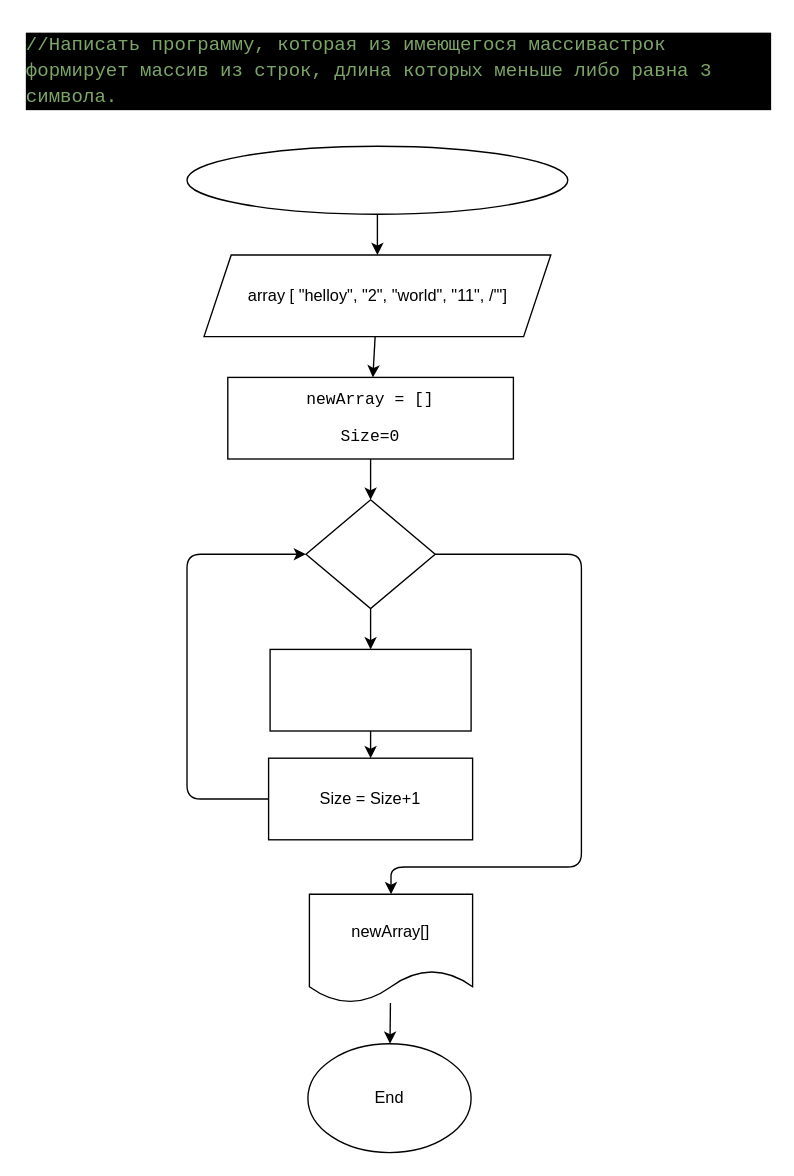
This 794x1176 diagram has some shape labels left out. Each missing label, with the centre of its shape:
Length<=3: [370,553]
newArray[Size]= array: [370,689]
Start: [377,179]
